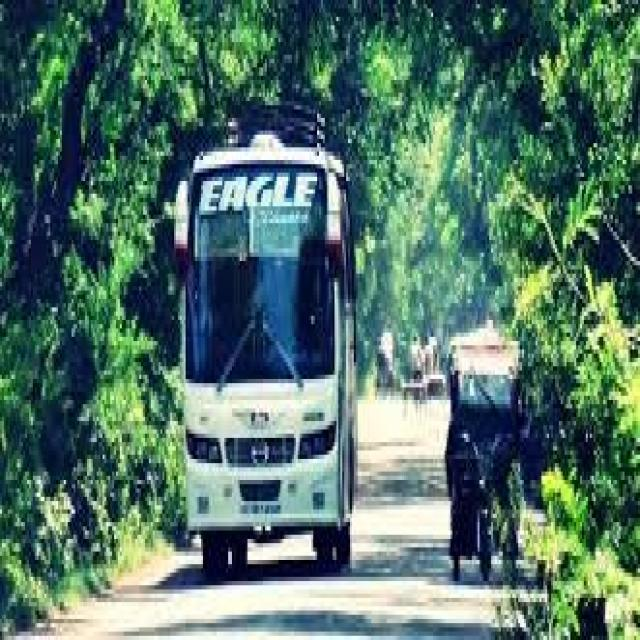bus: (165, 100, 363, 576)
